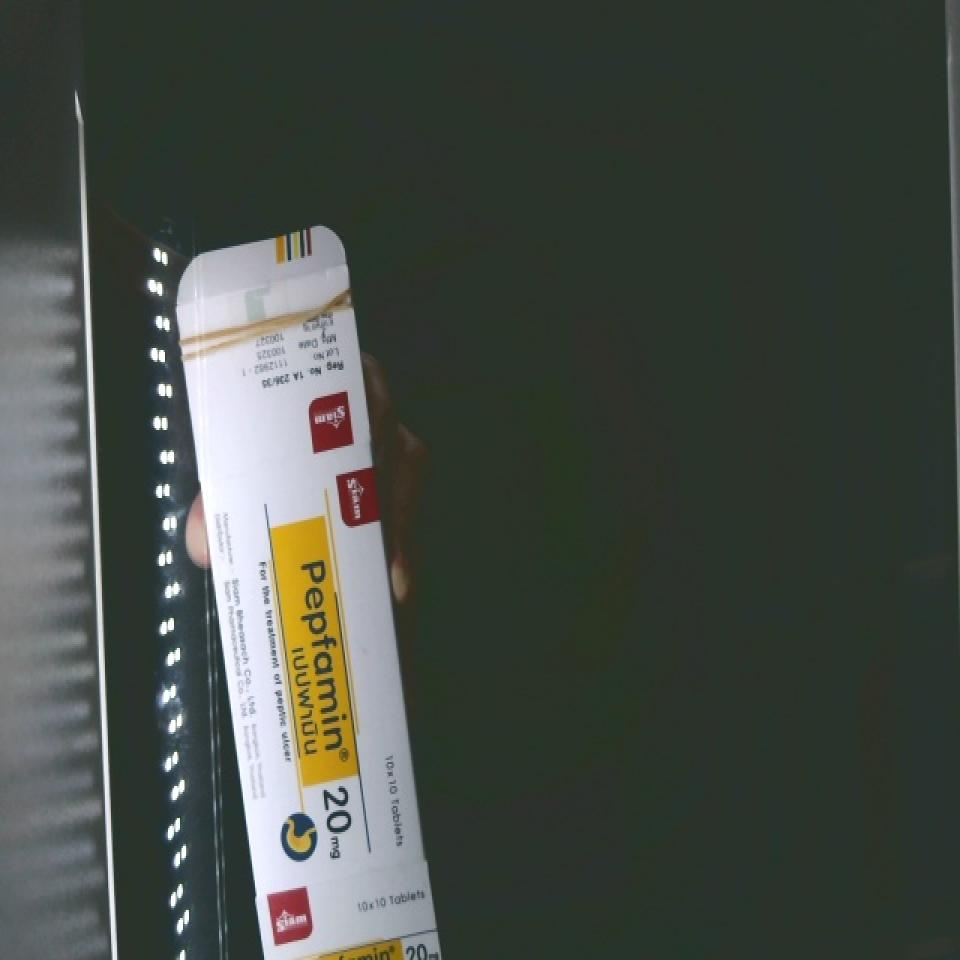medicine_box: (164, 227, 442, 960)
medicine_label_obb: (268, 527, 357, 788)
